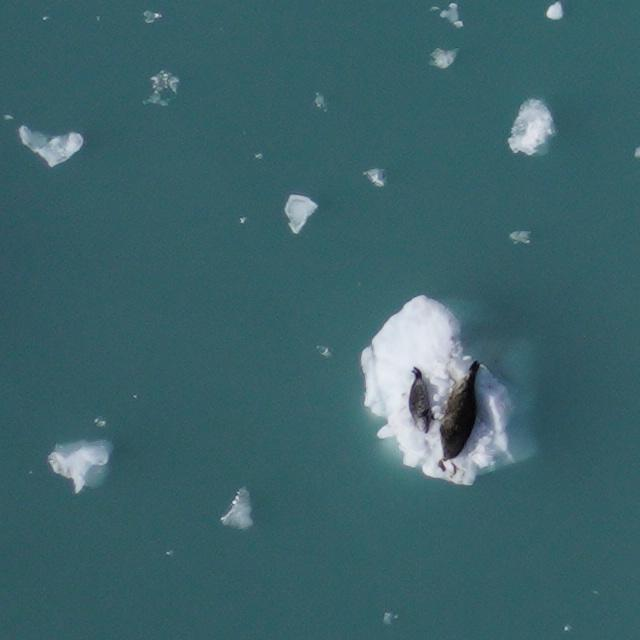seal: (432, 357, 480, 473), (409, 364, 435, 432)
